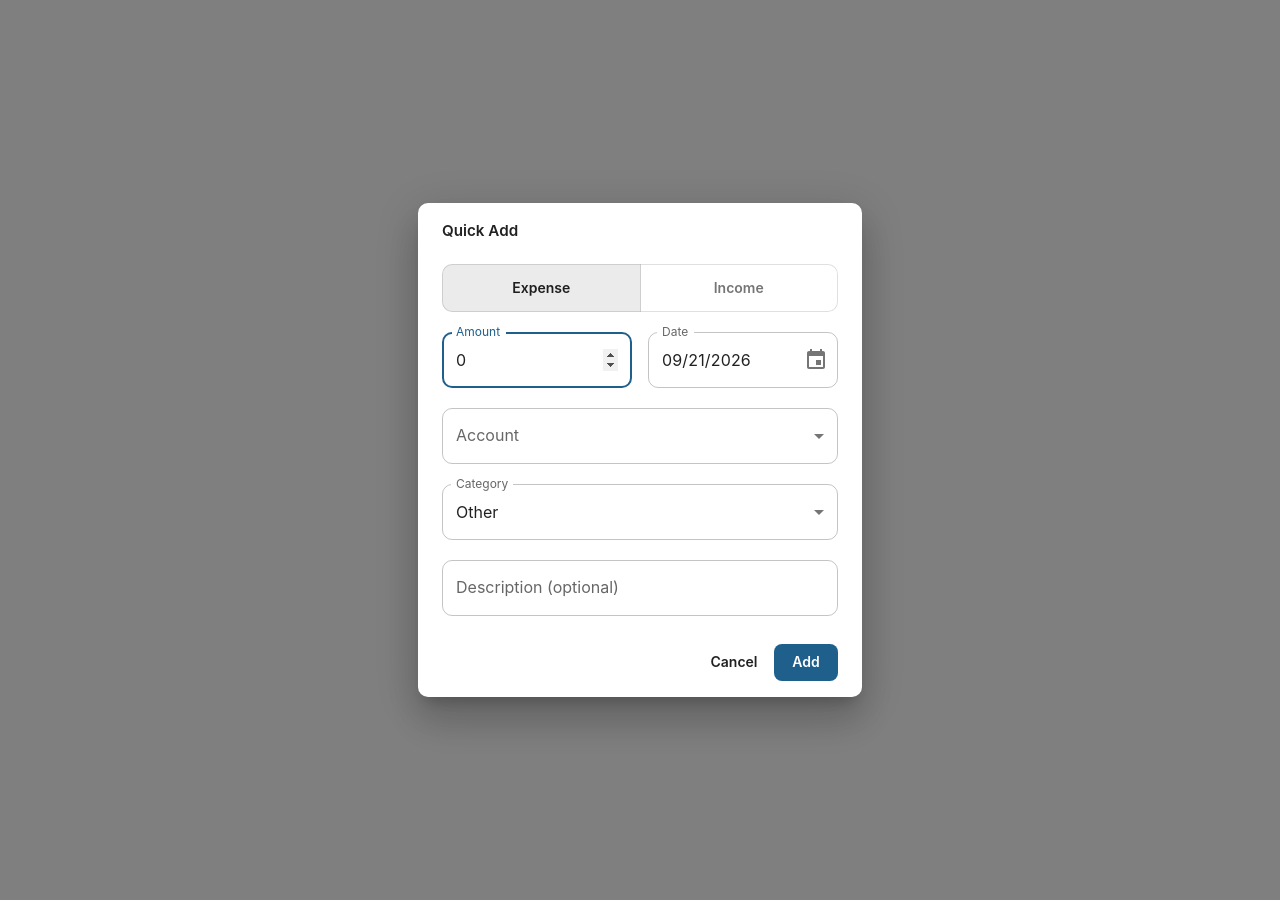
Scenario: QuickAddTransactionDialog › shows a validation error and does not submit without an account
Step 1. Replace the text in the number field labelled "Amount" with "100" → (537, 360), box [442,332,632,388]
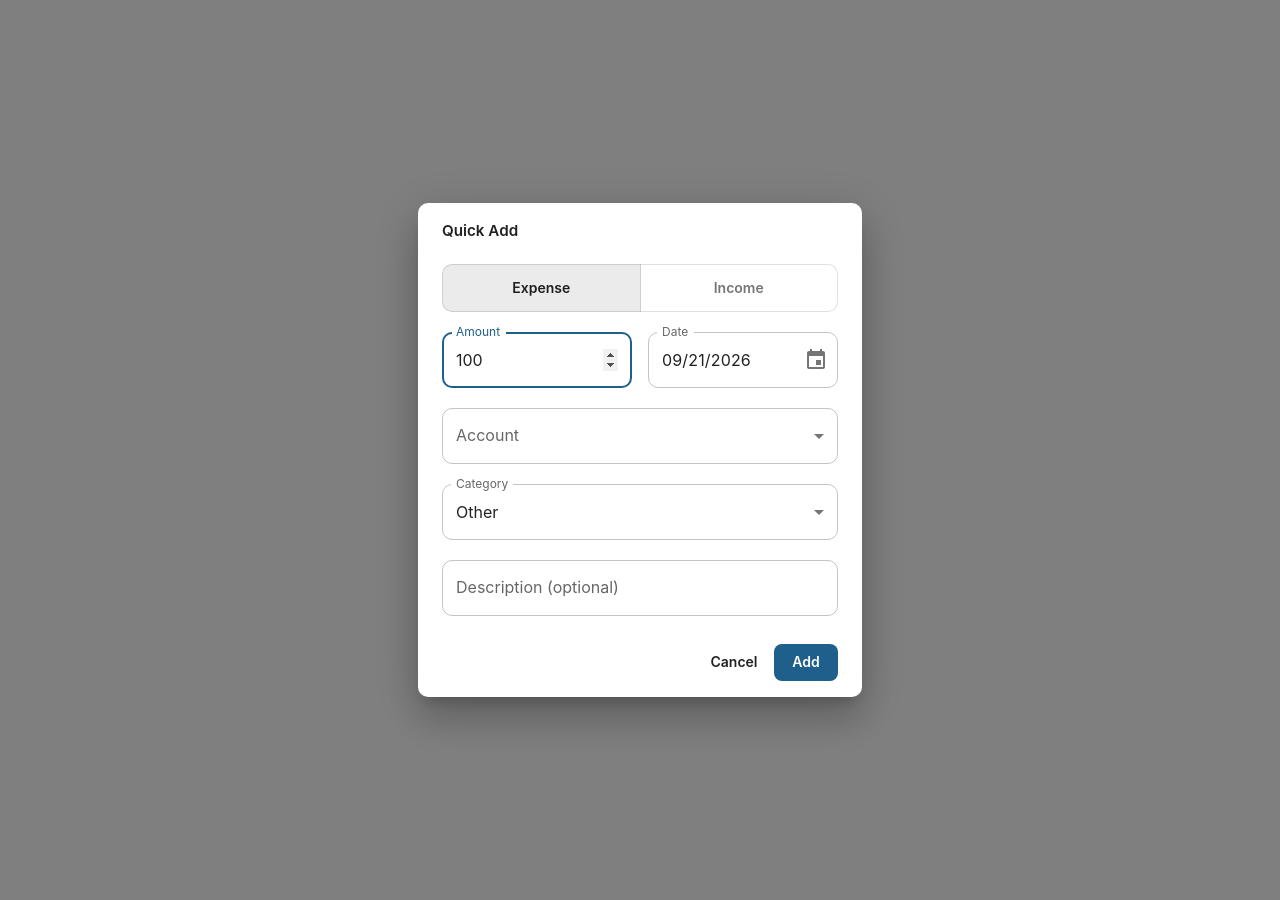
Step 2. Click the button "Add" → (806, 662), box [774,644,838,681]
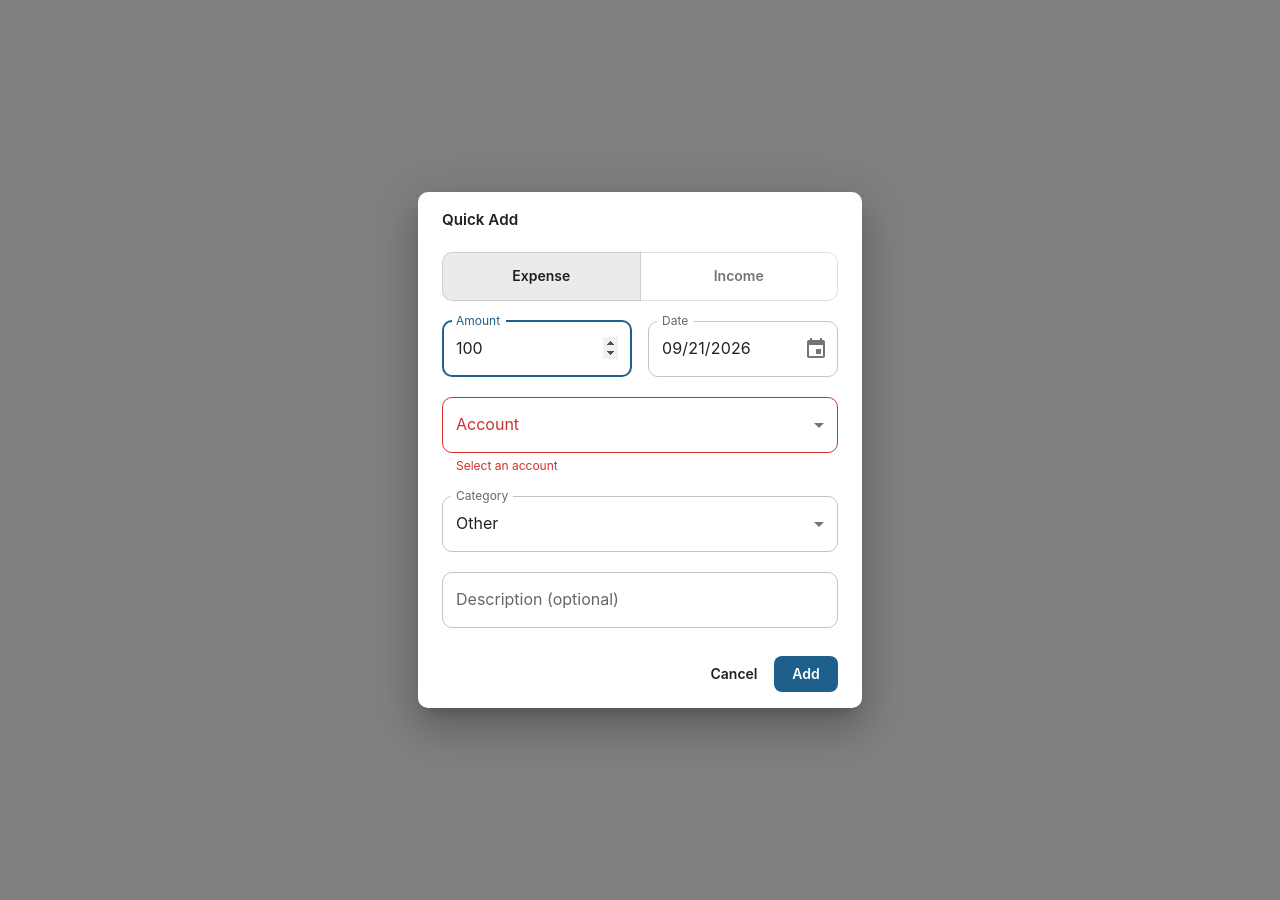
Expected: the text "Select an account" is shown, [456,458,558,473]
